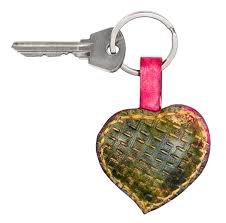key: (7, 20, 129, 79)
